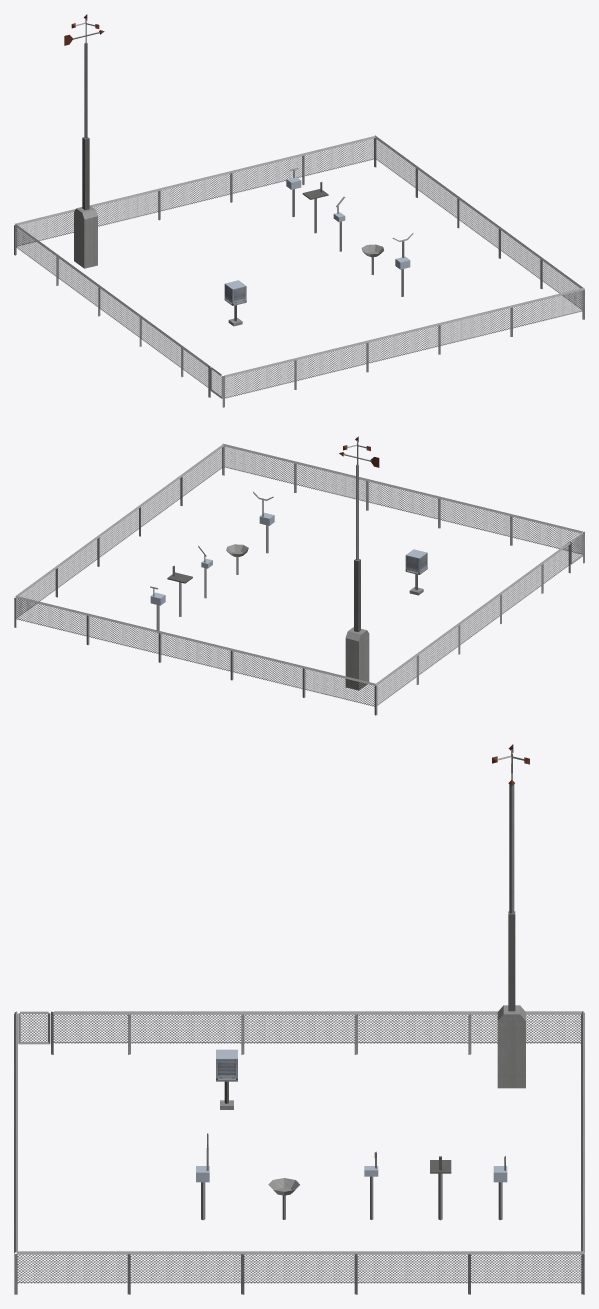
Rendered from weather-station-cbj_LOD01.gltf.
The picture shows the model from 3 angles, top to bottom: view 1: azimuth 30°, elevation 25°; view 2: azimuth 150°, elevation 25°; view 3: azimuth 270°, elevation 25°; orthographic projection. The views are drawn at different scales.
Visible parts, largest first — view 1: steven01; view 2: steven01; view 3: steven01.
Part boxes in pixels (left/top/right/bottom): steven01: left=14, top=14, right=584, bottom=407; steven01: left=14, top=436, right=584, bottom=715; steven01: left=14, top=744, right=584, bottom=1294.
Size of the model in its own units: 16.04 by 10.24 by 16.03.
